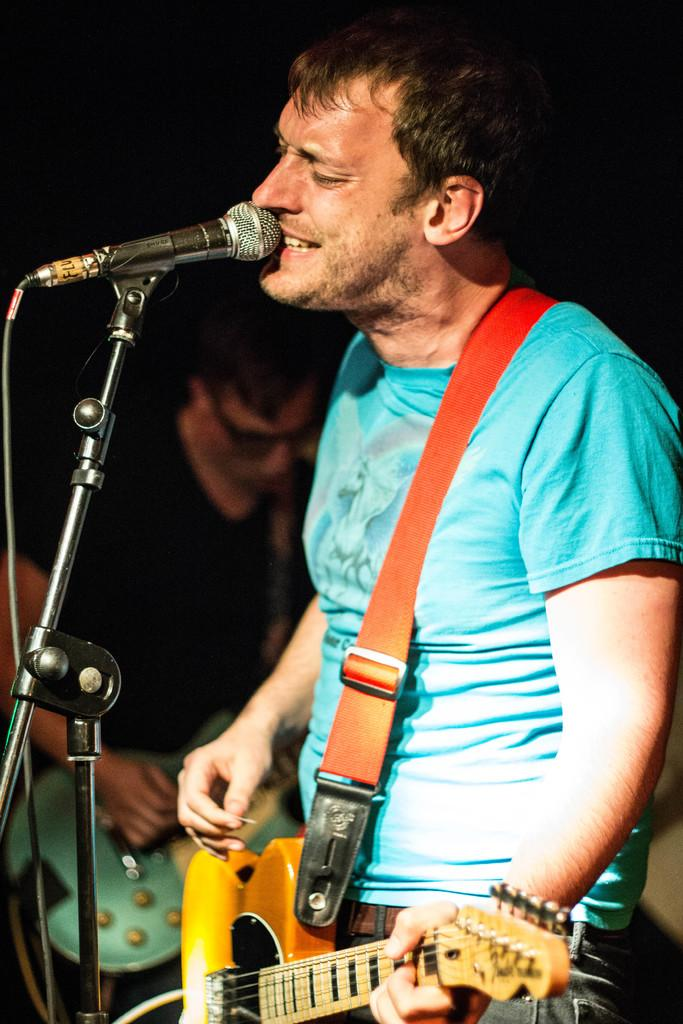no_helmet: (286, 15, 475, 148)
none: (294, 316, 568, 930)
